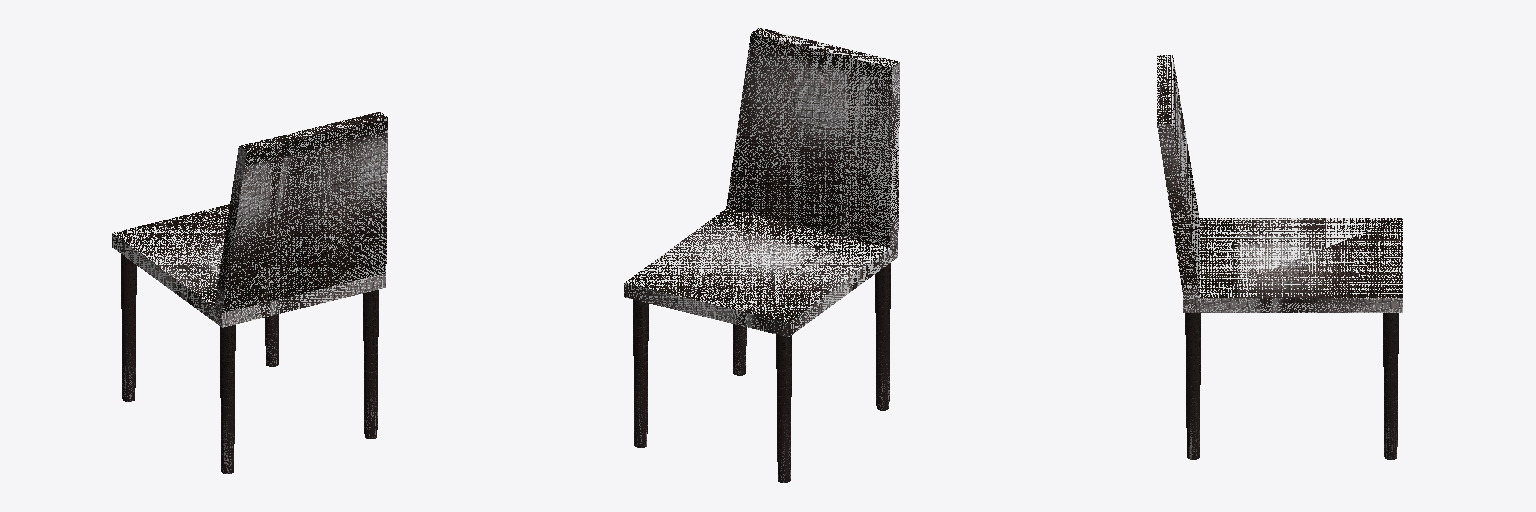
3 views of the same model, side by side, from view 1: azimuth 30°, elevation 25°; view 2: azimuth 150°, elevation 25°; view 3: azimuth 270°, elevation 25° (orthographic).
Parts seen in each view (by area): view 1: mesh2_mesh2-geometry, mesh1_mesh1-geometry; view 2: mesh2_mesh2-geometry, mesh1_mesh1-geometry; view 3: mesh2_mesh2-geometry, mesh1_mesh1-geometry.
Boxes of the visible parts, box(x1,y1,x2,y2) form: mesh2_mesh2-geometry: box(112, 112, 387, 327); mesh1_mesh1-geometry: box(121, 254, 378, 473); mesh2_mesh2-geometry: box(624, 28, 899, 336); mesh1_mesh1-geometry: box(633, 263, 890, 482); mesh2_mesh2-geometry: box(1157, 55, 1402, 312); mesh1_mesh1-geometry: box(1185, 313, 1398, 459).
Size of the model in its own units: 0.3943 by 0.7634 by 0.5117.
Materials: 3 (1 with a texture image).